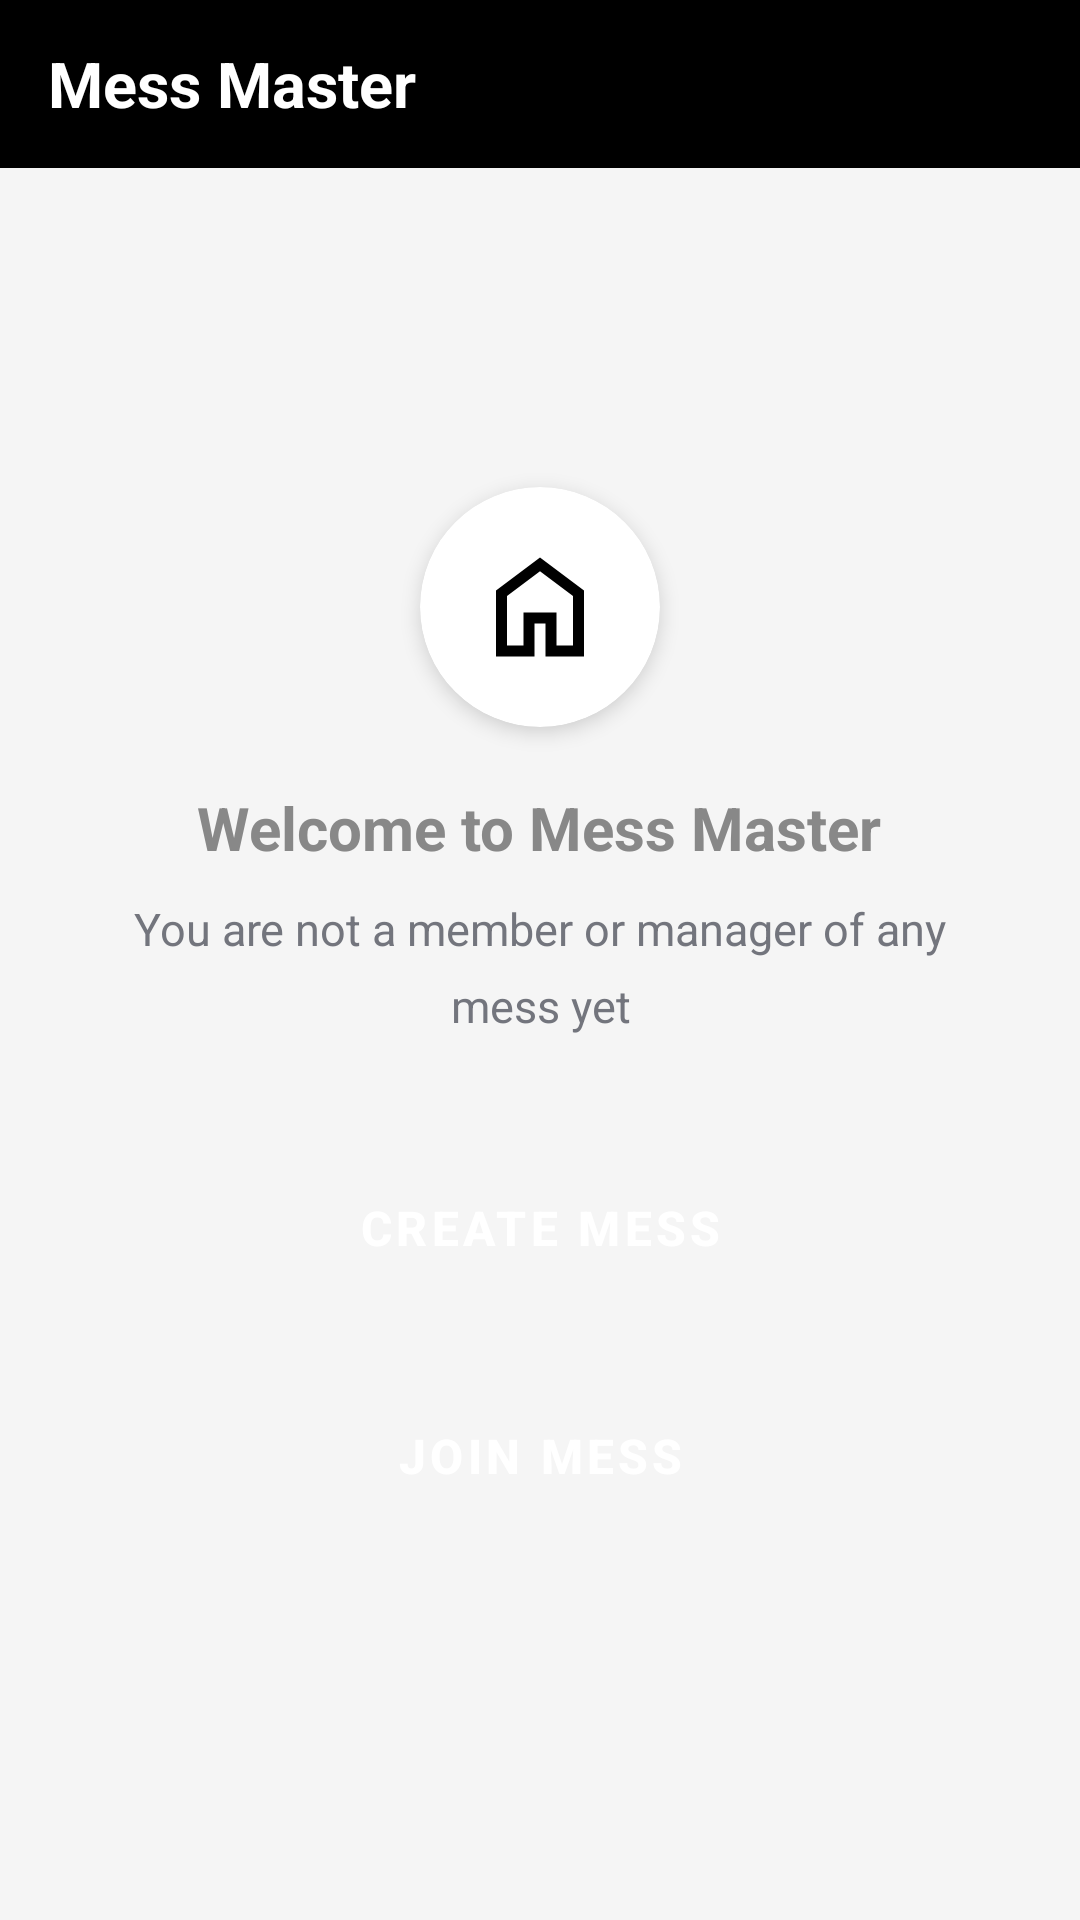

Icon click points for this 1080*1920 phone screenshot, format (x=x, y=y):
Home Icon: (x=540, y=607)
